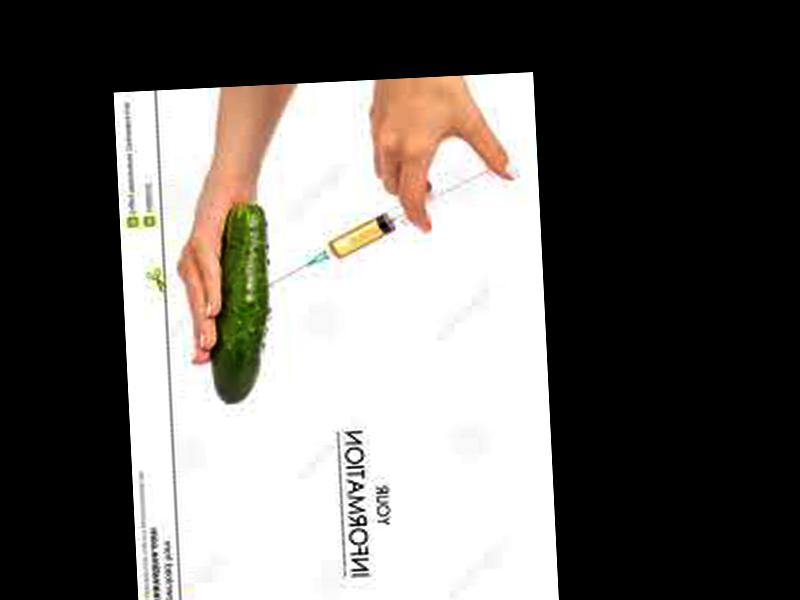Cucumber: (205, 202, 273, 404)
